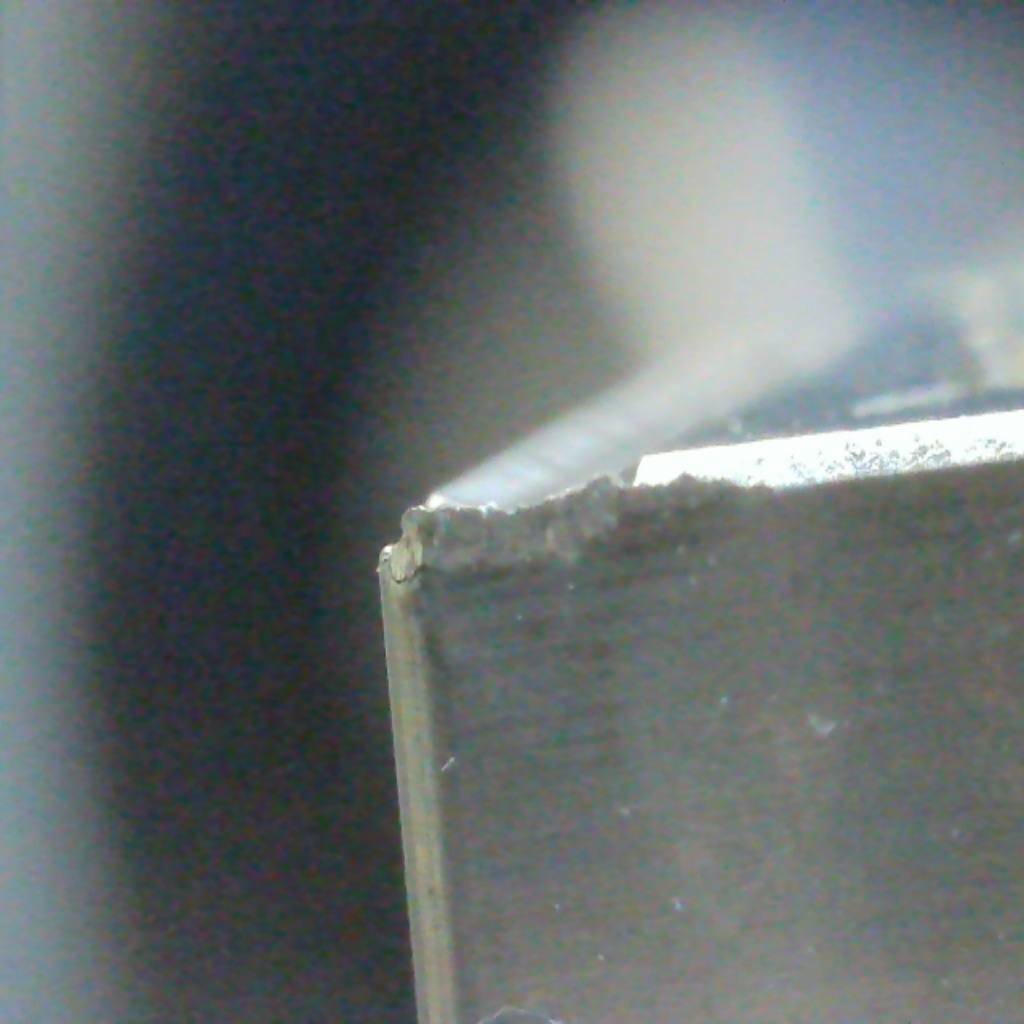flank_wear: (378, 541, 441, 598)
